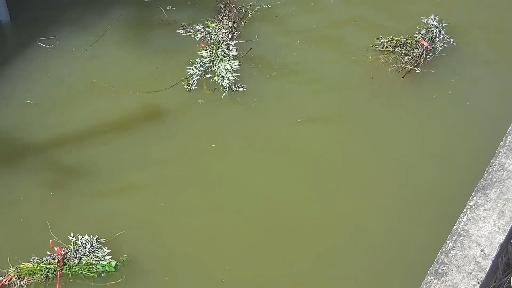twig: (163, 5, 267, 106), (0, 219, 128, 288), (361, 8, 457, 85)
